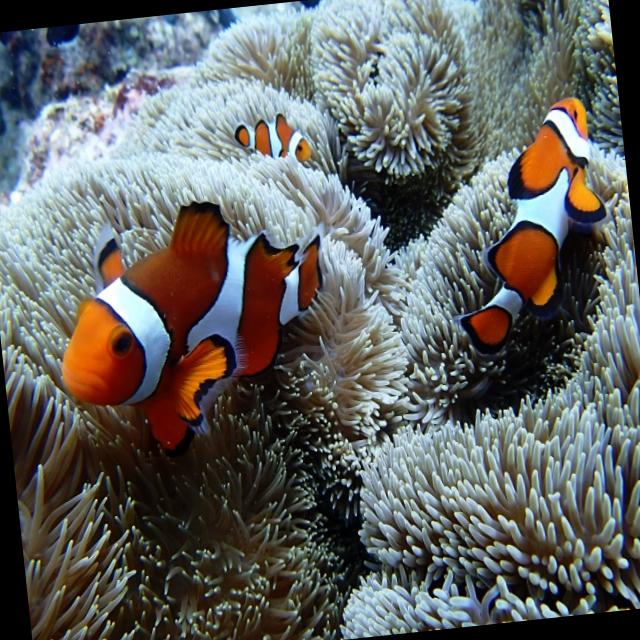ClownFish: (50, 185, 342, 466), (438, 90, 624, 352), (228, 105, 314, 171)
